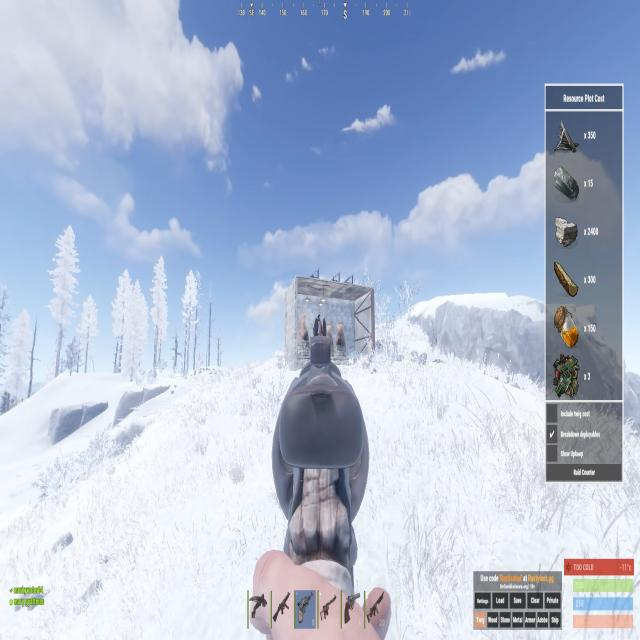Player: (313, 313, 323, 337)
